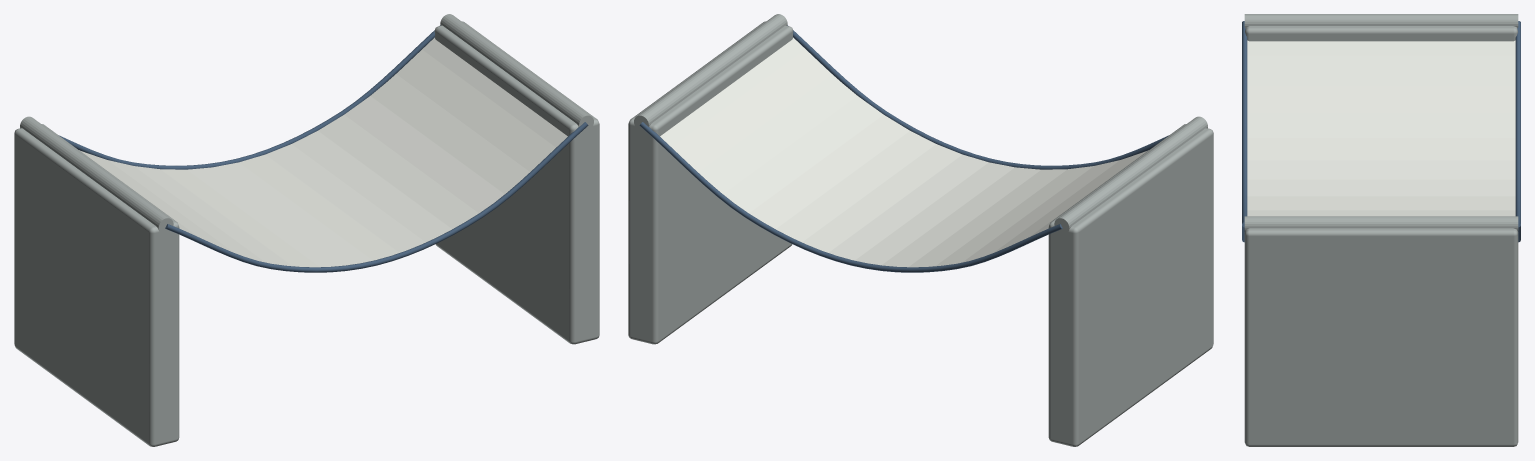
The model's file is spacecraft-parachute-packing-hall-spacecraft-parachute-90287da4__32080.glb.
3 renders of one model, left to right at view 1: azimuth 30°, elevation 25°; view 2: azimuth 150°, elevation 25°; view 3: azimuth 270°, elevation 25°, orthographic.
Parts seen in each view (by area): view 1: spacecraft-parachute-packing-hall-fabric-support-hammock; view 2: spacecraft-parachute-packing-hall-fabric-support-hammock; view 3: spacecraft-parachute-packing-hall-fabric-support-hammock.
Part boxes in pixels (box(x1,y1,x2,y2)): spacecraft-parachute-packing-hall-fabric-support-hammock: box(14, 14, 599, 446); spacecraft-parachute-packing-hall-fabric-support-hammock: box(628, 14, 1213, 446); spacecraft-parachute-packing-hall-fabric-support-hammock: box(1242, 14, 1520, 446).
Size of the model in its own units: 1.5 by 0.725 by 0.816.
